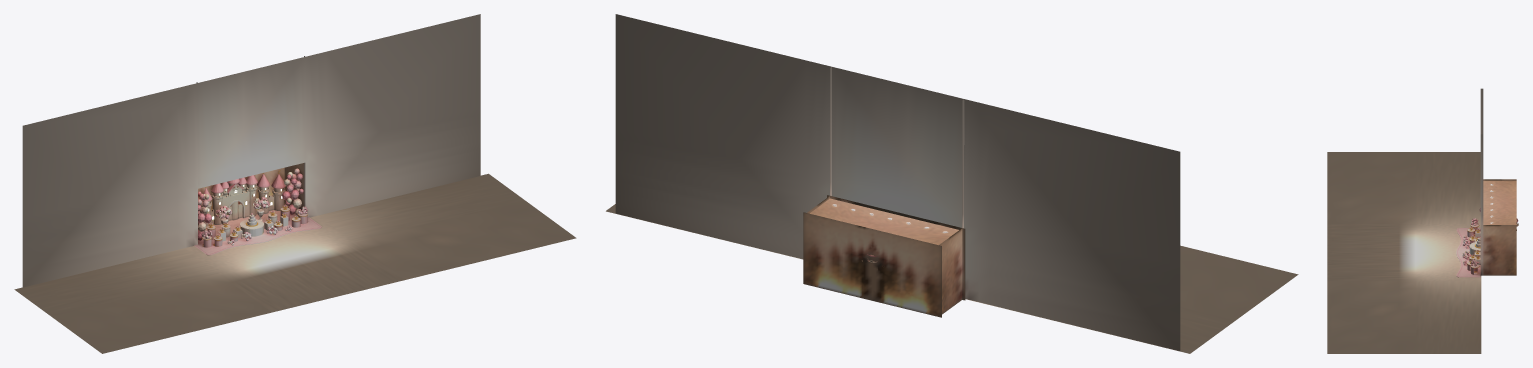
File: hall.glb
3 renders of one model, left to right at view 1: azimuth 30°, elevation 25°; view 2: azimuth 150°, elevation 25°; view 3: azimuth 270°, elevation 25°, orthographic. The views are drawn at different scales.
Visible parts, largest first — view 1: W_Room, W_Floor, W_Backdrop, W_Table, W_HallFlowers, W_Balloons_R, W_Balloons_L; view 2: W_Room, W_Floor; view 3: W_Floor, W_Room, W_Table, W_HallFlowers.
Part boxes in pixels (x1,y1,x2,y2): W_Room: (22, 14, 480, 287); W_Floor: (14, 173, 576, 353); W_Backdrop: (198, 170, 285, 227); W_Table: (202, 205, 307, 247); W_HallFlowers: (201, 197, 307, 245); W_Balloons_R: (282, 168, 303, 215); W_Balloons_L: (198, 191, 211, 240); W_Room: (615, 14, 1180, 350); W_Floor: (606, 204, 1298, 353); W_Floor: (1327, 152, 1481, 353); W_Room: (1456, 88, 1516, 277); W_Table: (1467, 223, 1480, 274); W_HallFlowers: (1462, 218, 1478, 266).
Size of the model in its own units: 92 by 30.02 by 36.81.
